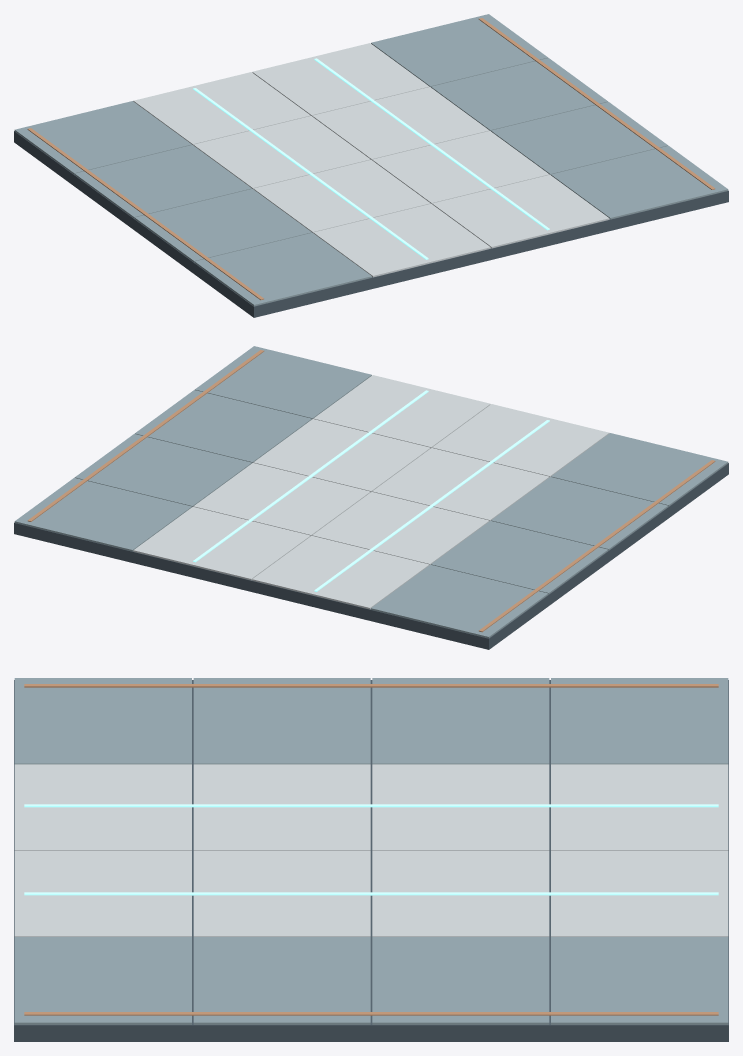
Rendered from floor.glb.
3 views of the same model, one above another, from view 1: azimuth 30°, elevation 25°; view 2: azimuth 150°, elevation 25°; view 3: azimuth 270°, elevation 25° (orthographic). The views are drawn at different scales.
Parts seen in each view (by area): view 1: dark_0, ivory_12, ivory_8, steel_4, steel_16, ivory_9, ivory_5, ivory_6, ivory_7, ivory_10, ivory_11, steel_1 (+9 smaller); view 2: dark_0, ivory_9, ivory_5, steel_1, steel_13, ivory_12, ivory_8, ivory_7, ivory_6, ivory_11, ivory_10, steel_4 (+9 smaller); view 3: dark_0, steel_13, steel_16, ivory_5, ivory_8, ivory_9, ivory_12, ivory_6, ivory_7, steel_14, steel_15, ivory_10 (+9 smaller).
Boxes of the visible parts, x1,y1,x2,y2 form: dark_0: (14,131,728,317); ivory_12: (432,175,609,248); ivory_8: (313,204,490,277); steel_4: (194,232,371,306); steel_16: (551,146,728,219); ivory_9: (252,43,429,116); ivory_5: (133,72,310,144); ivory_6: (193,116,370,188); ivory_7: (253,160,430,232); ivory_10: (312,87,489,159); ivory_11: (372,131,549,203); steel_1: (14,101,191,174); dark_0: (14,463,728,649); ivory_9: (133,507,310,580); ivory_5: (252,536,429,609); steel_1: (371,564,548,638); steel_13: (14,478,191,551); ivory_12: (313,375,490,448); ivory_8: (432,404,609,476); ivory_7: (372,448,549,520); ivory_6: (312,492,489,564); ivory_11: (253,419,430,491); ivory_10: (193,463,370,535); steel_4: (551,433,728,506); dark_0: (14,680,728,1041); steel_13: (551,937,728,1024); steel_16: (14,937,191,1024); ivory_5: (551,764,728,850); ivory_8: (14,764,191,850); ivory_9: (551,850,728,936); ivory_12: (14,850,191,936); ivory_6: (372,764,549,850); ivory_7: (193,764,370,850); steel_14: (372,937,549,1024); steel_15: (193,937,370,1024); ivory_10: (372,850,549,936).
Size of the model in its own units: 8 by 0.2175 by 7.
